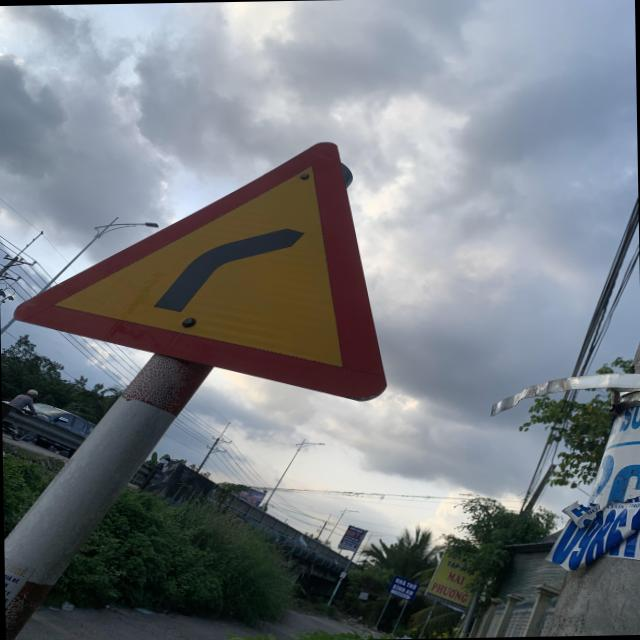Duong_Nguoi_Di_Bo_Cat_Ngang: (11, 138, 383, 406)
